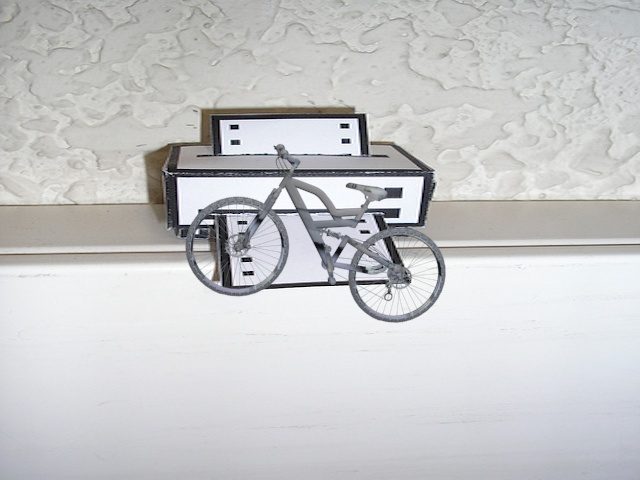bike: (177, 137, 448, 336)
